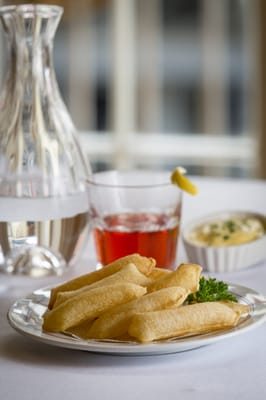pizza: (86, 169, 184, 270)
soup: (42, 279, 147, 339), (127, 299, 249, 343)
sushi: (181, 209, 266, 274)
